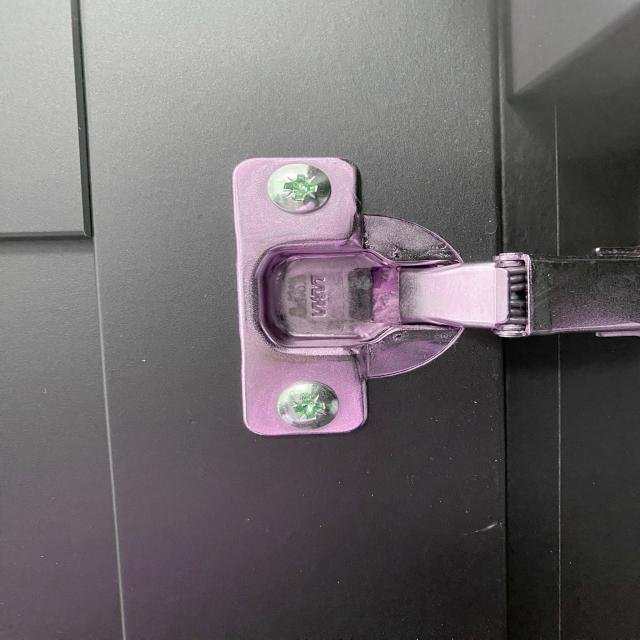PhillipsScrewHead: (266, 162, 332, 215), (277, 382, 339, 429)
